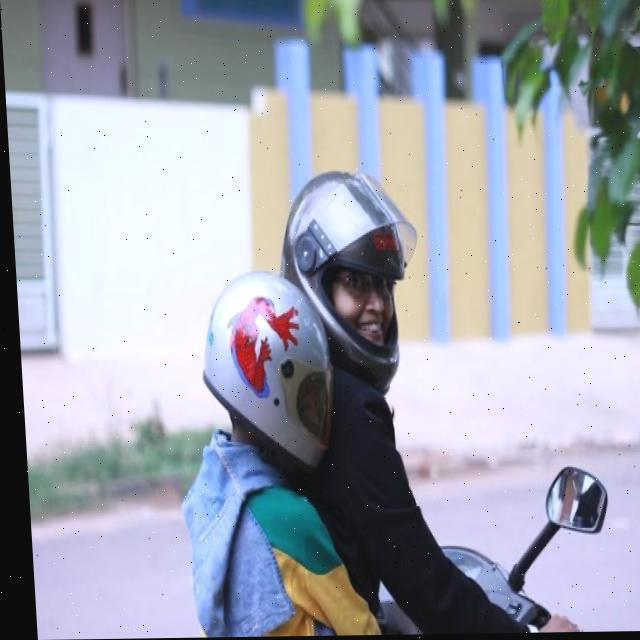Helmet: (266, 157, 420, 396)
